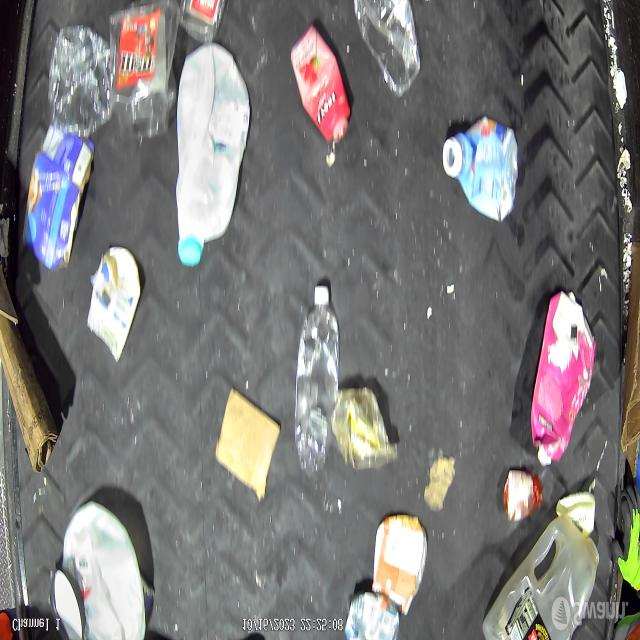can: (344, 591, 399, 640)
milk_jug: (173, 41, 250, 260), (63, 503, 148, 639)
non_white_jug: (482, 517, 600, 640), (532, 294, 596, 471)
plastic_bottle: (292, 289, 340, 477), (48, 22, 113, 141), (352, 0, 422, 99)
